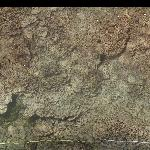dead: (3, 12, 147, 147)
